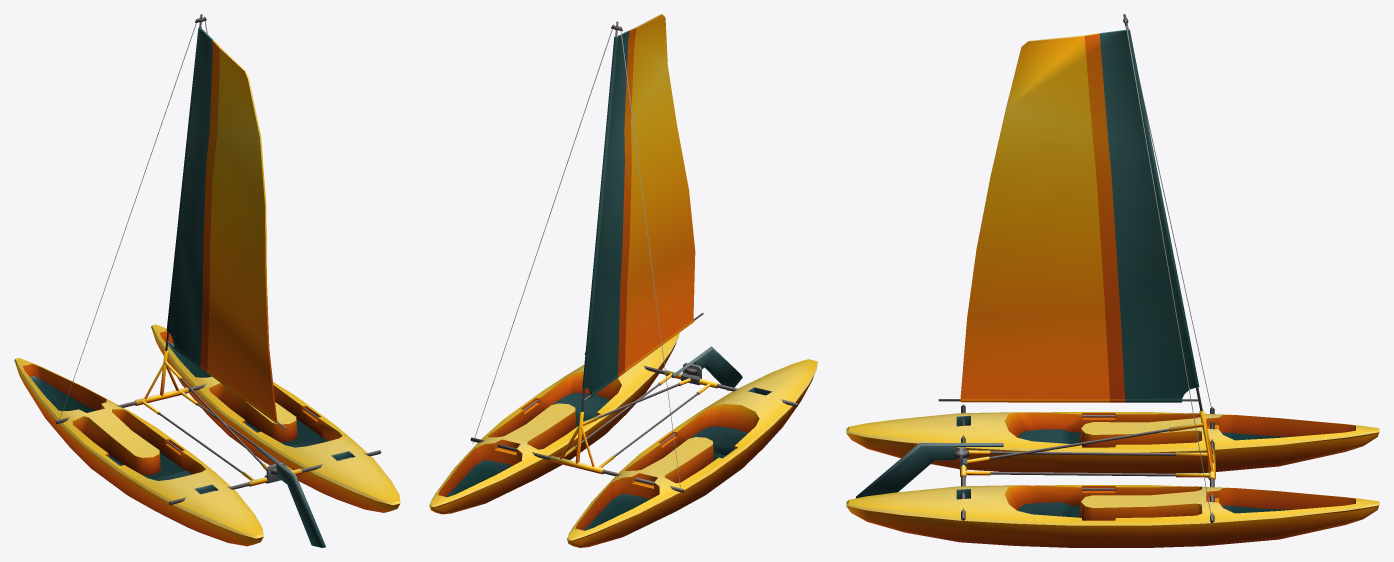
File: Catamaran_1B.fbx
The picture shows the model from 3 angles, left to right: view 1: azimuth 30°, elevation 25°; view 2: azimuth 150°, elevation 25°; view 3: azimuth 270°, elevation 25°; orthographic projection. The views are drawn at different scales.
Visible parts, largest first — view 1: Catamaran_1B, Catamaran_1B_Sail, Catamaran_1B_Rudder; view 2: Catamaran_1B, Catamaran_1B_Sail, Catamaran_1B_Rudder; view 3: Catamaran_1B_Sail, Catamaran_1B, Catamaran_1B_Rudder.
Part boxes in pixels (bbox=[...]): Catamaran_1B: bbox=[14, 16, 400, 546]; Catamaran_1B_Sail: bbox=[165, 14, 287, 429]; Catamaran_1B_Rudder: bbox=[255, 446, 325, 547]; Catamaran_1B: bbox=[429, 24, 817, 547]; Catamaran_1B_Sail: bbox=[581, 14, 703, 411]; Catamaran_1B_Rudder: bbox=[671, 346, 742, 390]; Catamaran_1B_Sail: bbox=[938, 14, 1202, 411]; Catamaran_1B: bbox=[846, 18, 1379, 547]; Catamaran_1B_Rudder: bbox=[856, 443, 1003, 498].
Bounding box in the file's own units: 263 × 537 × 528.
